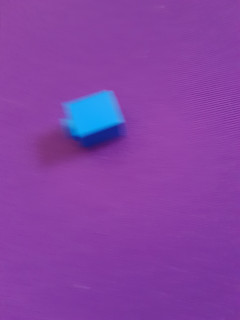1x1 blue: (59, 90, 127, 150)
